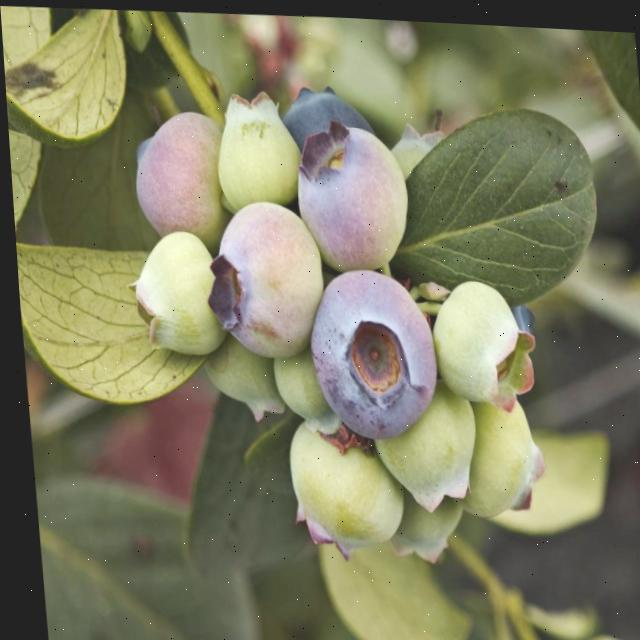Semi-RipeBlueBerry: (299, 259, 438, 440), (202, 192, 327, 359), (289, 113, 412, 269), (127, 104, 231, 246)
UnripeBlueBerry: (279, 410, 403, 555), (425, 270, 533, 405), (368, 383, 477, 506), (127, 227, 220, 358), (211, 91, 302, 209)
